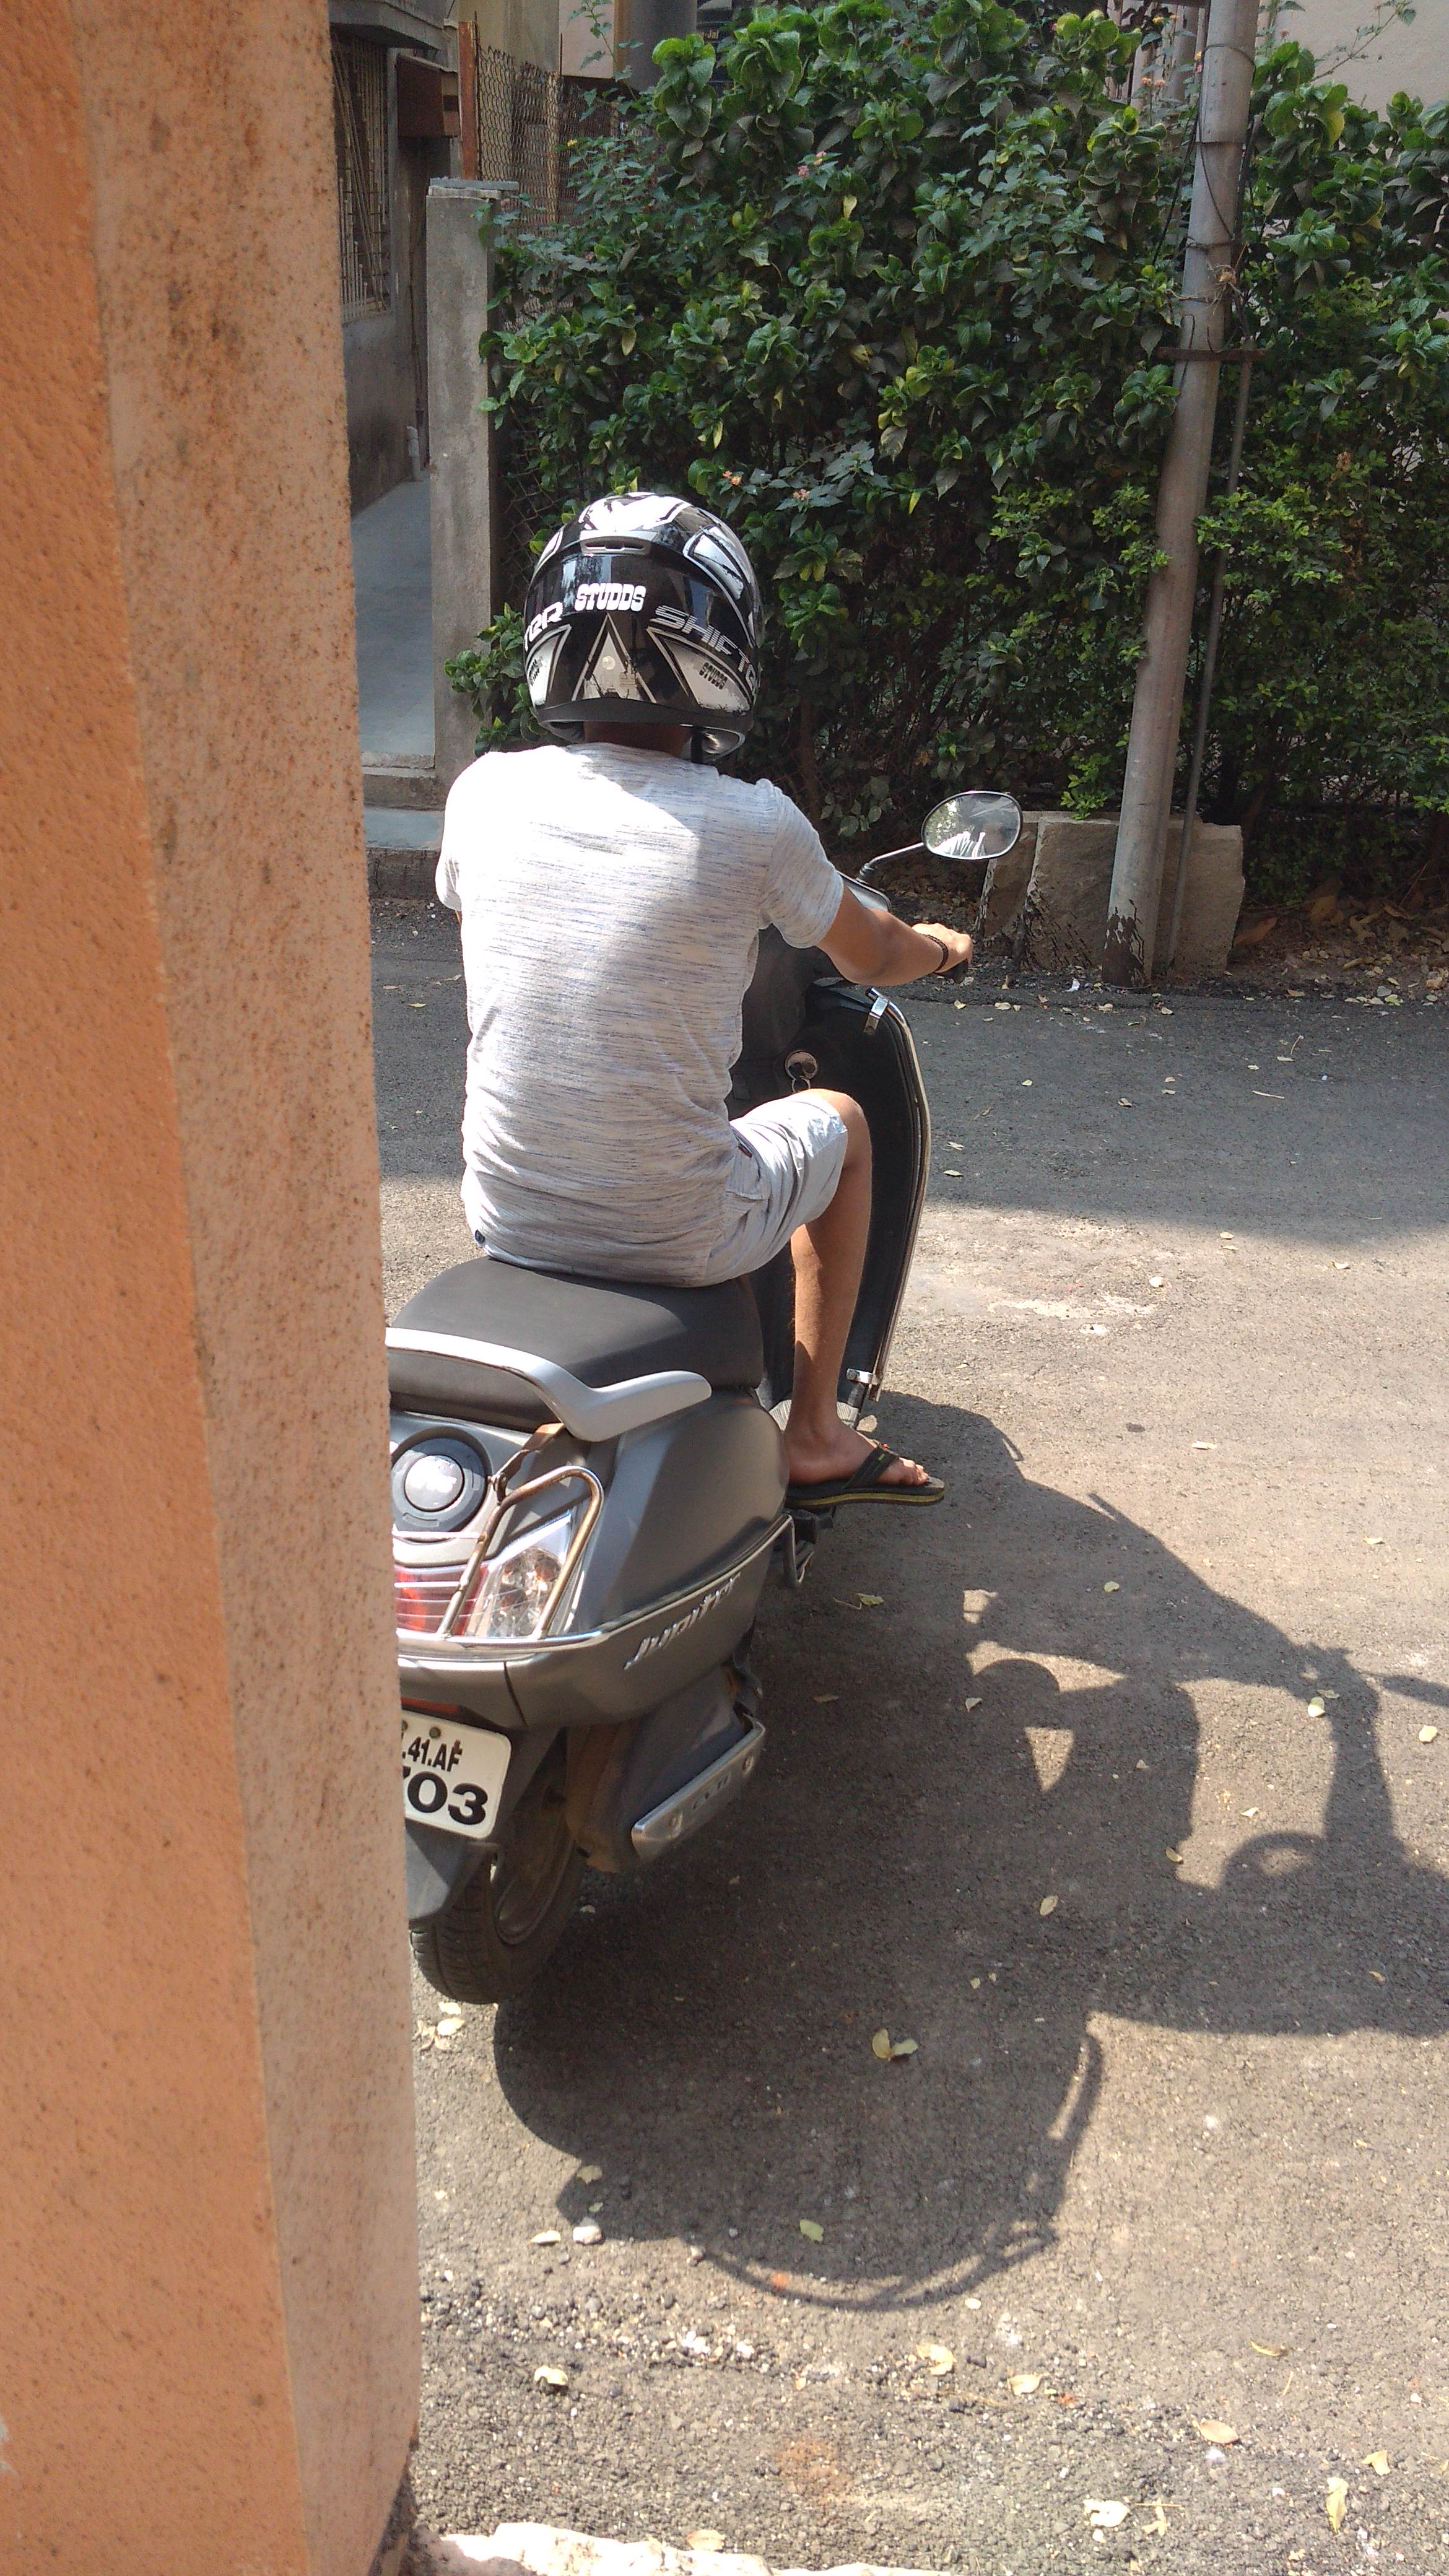helmet: (345, 396, 980, 1477)
